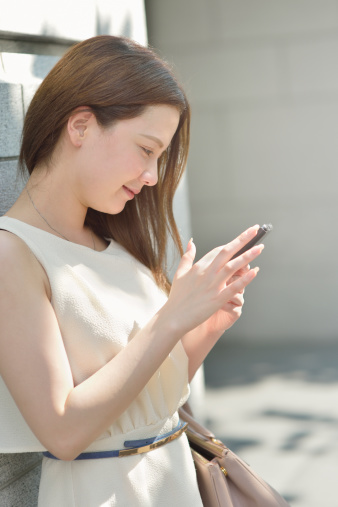em pe: (0, 45, 277, 507)
